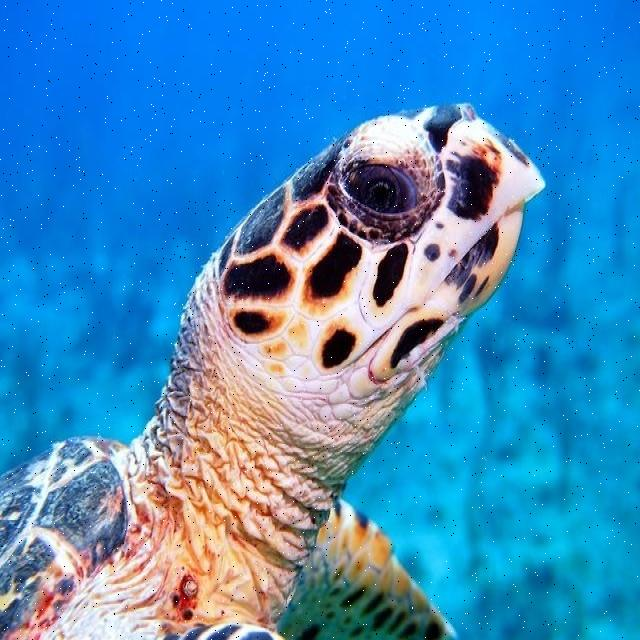fish: (0, 102, 545, 639)
